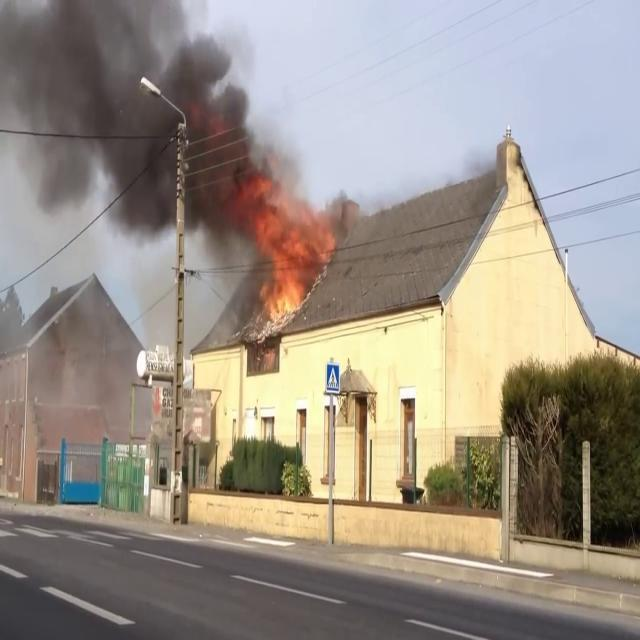Fire: (238, 192, 338, 326)
Smoke: (0, 0, 298, 262)
